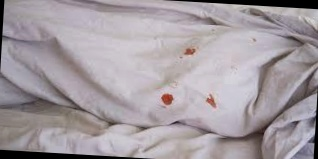blood: (160, 92, 174, 106), (205, 95, 218, 107), (185, 49, 195, 56)
